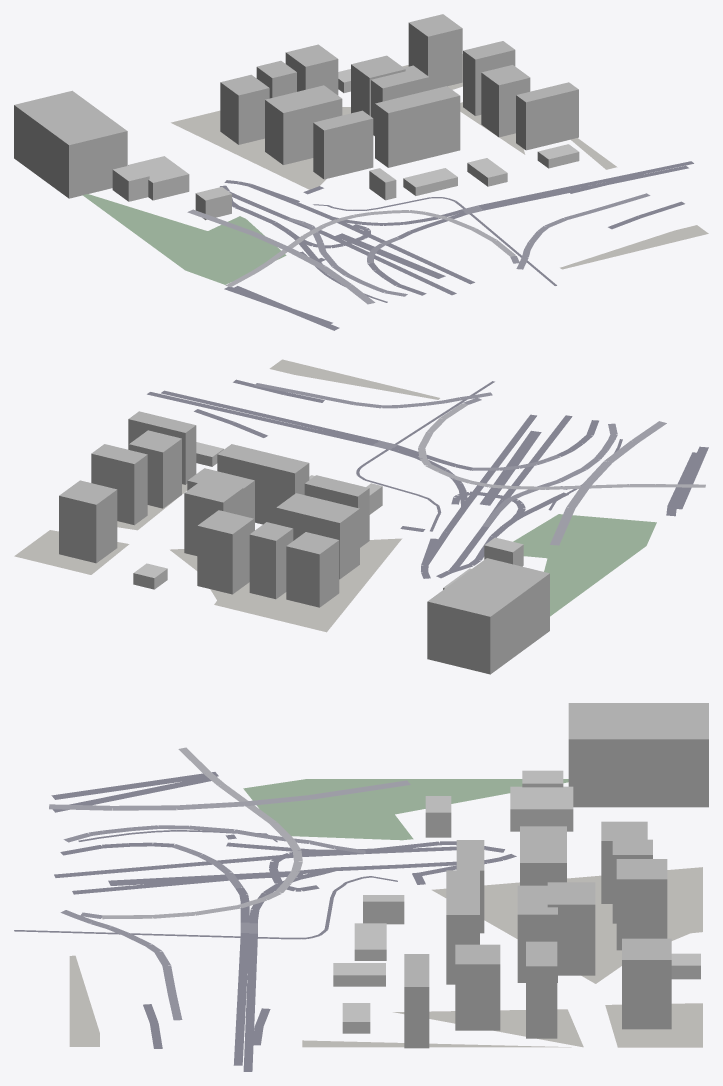
File: 116_87_mid.glb
3 renders of one model, top to bottom at view 1: azimuth 30°, elevation 25°; view 2: azimuth 150°, elevation 25°; view 3: azimuth 270°, elevation 25°, orthographic. The views are drawn at different scales.
Bounding box in the file's own units: 578 × 62.99 × 549.
